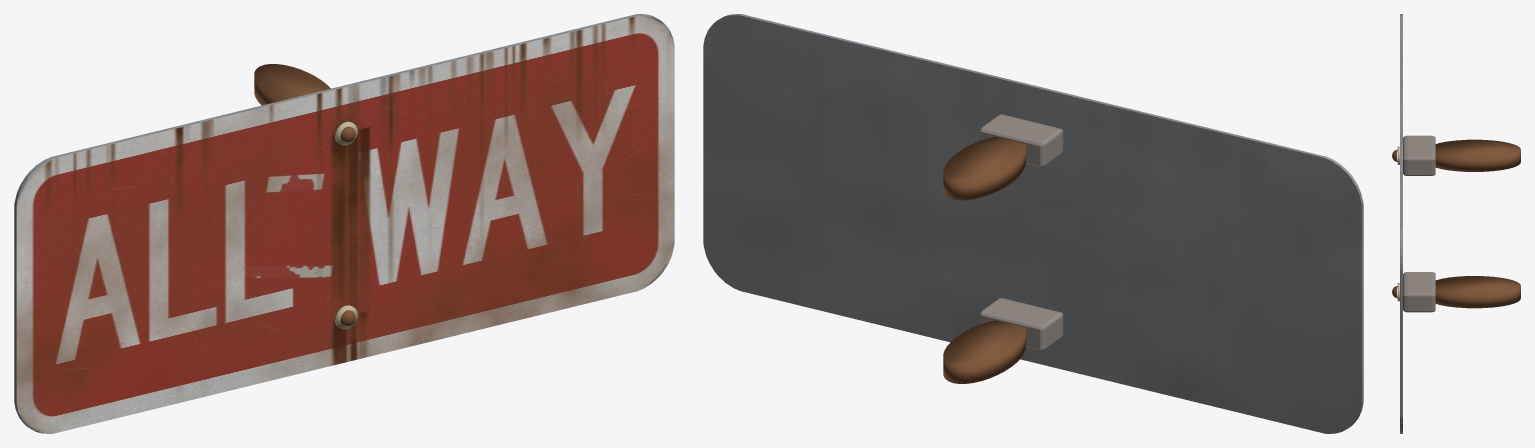
Rendered from allWay-v1-rusty.glb.
3 renders of one model, left to right at view 1: azimuth 30°, elevation 25°; view 2: azimuth 150°, elevation 25°; view 3: azimuth 270°, elevation 25°, orthographic. The views are drawn at different scales.
Parts seen in each view (by area): view 1: allWay-v1-rusty; view 2: allWay-v1-rusty; view 3: allWay-v1-rusty.
Boxes of the visible parts, x1,y1,x2,y2 form: allWay-v1-rusty: (14, 14, 674, 433); allWay-v1-rusty: (703, 14, 1363, 433); allWay-v1-rusty: (1392, 14, 1520, 433).
Bounding box in the file's own units: 0.381 × 0.1524 × 0.0871.
1 material, 1 textured.
